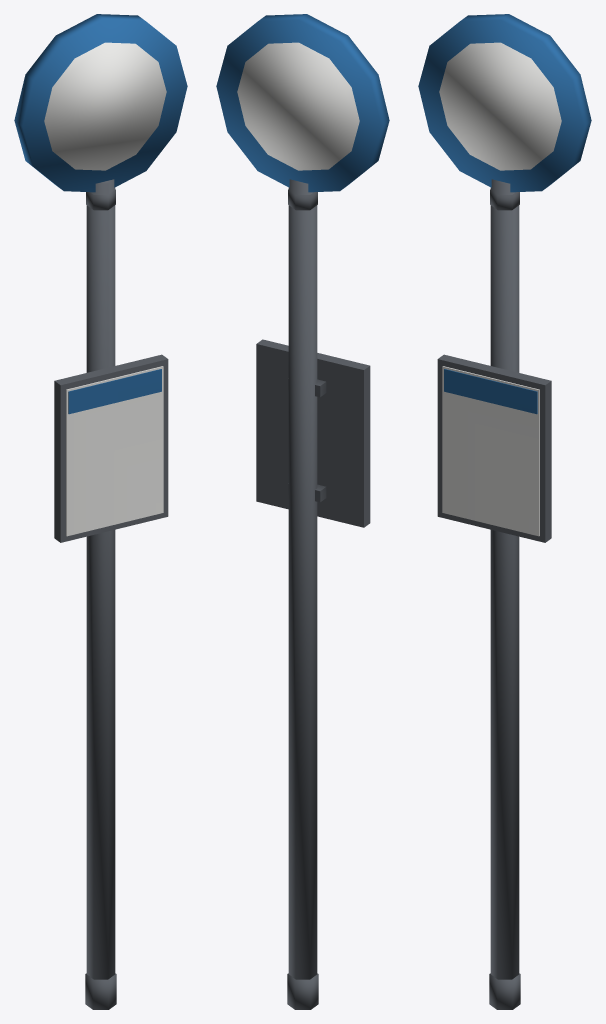
File: busSign.far.glb
3 views of the same model, side by side, from view 1: azimuth 30°, elevation 25°; view 2: azimuth 150°, elevation 25°; view 3: azimuth 330°, elevation 25° (orthographic).
Visible parts, largest first — view 1: busSign; view 2: busSign; view 3: busSign.
Part boxes in pixels (x1,y1,x2,y2): busSign: (14, 14, 187, 1009); busSign: (216, 14, 389, 1009); busSign: (418, 14, 591, 1009).
Bounding box in the file's own units: 0.46 × 2.63 × 0.108.
